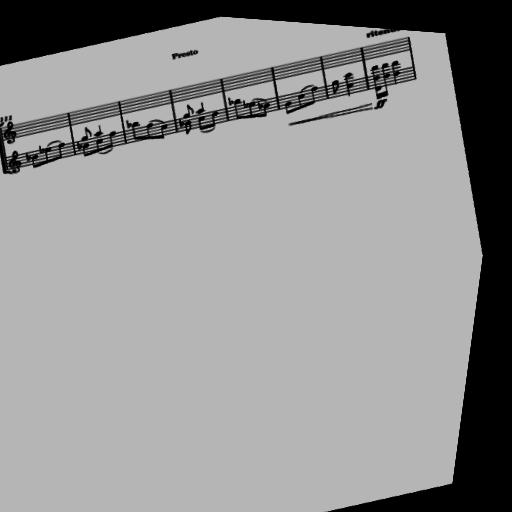crescendo_sign: (290, 93, 375, 126)
eighth_note: (305, 80, 323, 101), (234, 94, 248, 116), (57, 140, 72, 158), (107, 129, 122, 146), (209, 107, 224, 124), (133, 119, 146, 138), (183, 99, 198, 114), (148, 119, 160, 137), (82, 124, 97, 138), (160, 121, 174, 136), (261, 98, 275, 113), (47, 146, 59, 162), (250, 97, 261, 114), (298, 89, 310, 103), (34, 152, 45, 167), (332, 74, 343, 88), (99, 136, 109, 150), (186, 117, 196, 131), (200, 112, 210, 126), (85, 141, 95, 154), (286, 96, 296, 109), (375, 80, 385, 93)
flat: (42, 143, 49, 152), (230, 92, 237, 101), (245, 95, 252, 104), (29, 151, 36, 159), (80, 139, 87, 147), (128, 117, 135, 125), (181, 115, 188, 123), (259, 96, 266, 104)
fortissimo: (374, 91, 390, 103)
quarter_note: (390, 54, 405, 78), (344, 66, 358, 90), (393, 64, 404, 78), (197, 98, 208, 110), (347, 77, 357, 90), (97, 122, 106, 134)
sixteenth_note: (377, 56, 398, 91), (369, 59, 388, 93), (380, 67, 397, 91), (372, 69, 387, 93)
slur_sign: (253, 91, 269, 101), (301, 78, 317, 88), (152, 115, 167, 124), (102, 145, 117, 153), (203, 122, 218, 130), (51, 138, 65, 146)
staff: (8, 36, 419, 192), (2, 7, 413, 162)
treble_clef: (3, 119, 23, 144), (9, 148, 29, 173)
